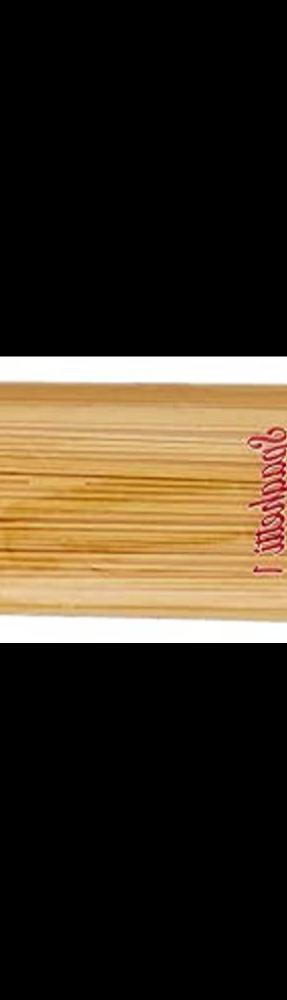Spaghetti: (0, 377, 287, 629)
